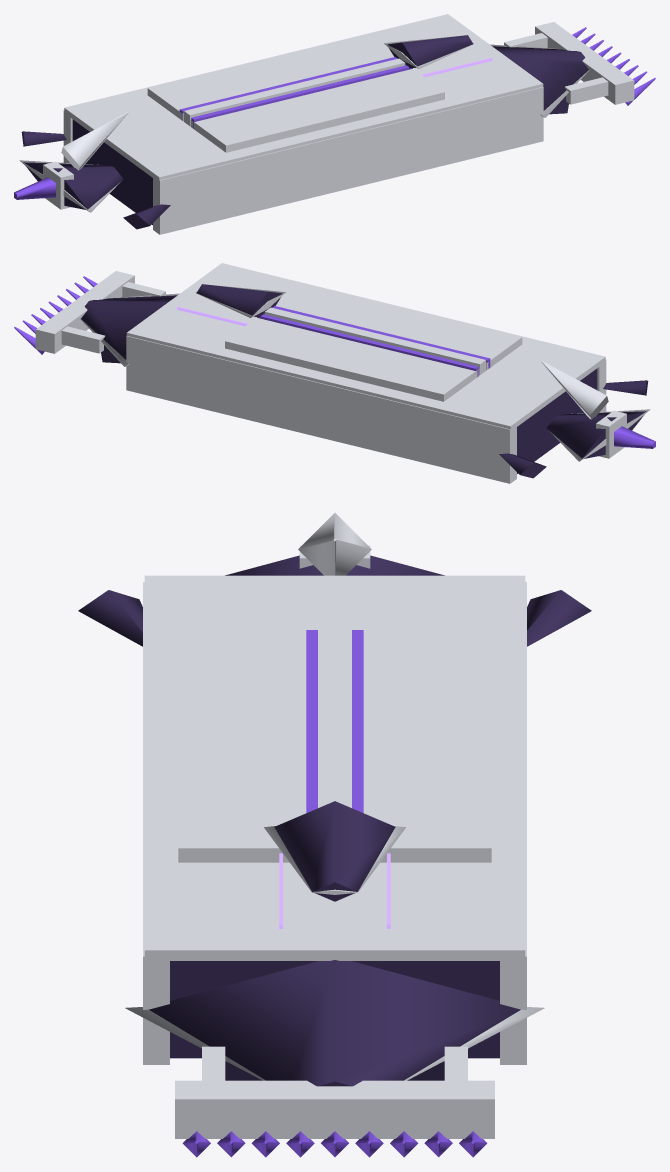
The model's file is harvester-hadron.glb.
The picture shows the model from 3 angles, top to bottom: view 1: azimuth 30°, elevation 25°; view 2: azimuth 150°, elevation 25°; view 3: azimuth 270°, elevation 25°; orthographic projection. The views are drawn at different scales.
Parts seen in each view (by area): view 1: hull_rim_s, deck_plate, bay_frame_s, bay_frame_p, bow_wedge, cutter_bar, hull_main, stern_wedge, bay_spine, control_prism, bay_sill_s, fin_dorsal (+9 smaller); view 2: hull_rim_p, deck_plate, bay_frame_p, bay_frame_s, bow_wedge, cutter_bar, hull_main, stern_wedge, bay_spine, control_prism, bay_sill_p, fin_dorsal (+9 smaller); view 3: deck_plate, bow_wedge, bay_frame_p, bay_frame_s, cutter_bar, hull_main, control_prism, bay_spine, hull_rim_p, hull_rim_s, fin_dorsal, bay_sill_p (+6 smaller).
Part boxes in pixels (box(x1,y1,x2,y2)): hull_rim_s: box(153, 87, 543, 234); deck_plate: box(64, 14, 543, 181); bay_frame_s: box(190, 69, 444, 152); bay_frame_p: box(147, 35, 393, 121); bow_wedge: box(492, 46, 588, 110); cutter_bar: box(535, 22, 634, 104); hull_main: box(72, 119, 152, 224); stern_wedge: box(23, 162, 123, 209); bay_spine: box(184, 58, 405, 126); control_prism: box(387, 35, 473, 68); bay_sill_s: box(191, 65, 412, 128); fin_dorsal: box(61, 112, 128, 170); hull_rim_p: box(126, 336, 516, 483); deck_plate: box(126, 263, 605, 429); bay_frame_p: box(225, 318, 479, 401); bay_frame_s: box(276, 284, 522, 370); bow_wedge: box(81, 295, 177, 359); cutter_bar: box(35, 271, 134, 353); hull_main: box(517, 368, 597, 473); stern_wedge: box(546, 411, 646, 458); bay_spine: box(264, 307, 485, 375); control_prism: box(196, 284, 282, 317); bay_sill_p: box(257, 314, 478, 377); fin_dorsal: box(541, 361, 608, 419); deck_plate: box(144, 575, 525, 960); bow_wedge: box(149, 960, 520, 1086); bay_frame_p: box(350, 634, 491, 862); bay_frame_s: box(178, 634, 319, 862); cutter_bar: box(175, 1080, 494, 1138); hull_main: box(170, 961, 499, 1058); control_prism: box(274, 801, 395, 901); bay_spine: box(323, 627, 346, 805); hull_rim_p: box(500, 582, 526, 1064); hull_rim_s: box(143, 582, 169, 1064); fin_dorsal: box(298, 513, 371, 575); bay_sill_p: box(352, 630, 363, 812).
Size of the model in its own units: 74.71 by 10.49 by 27.46.
